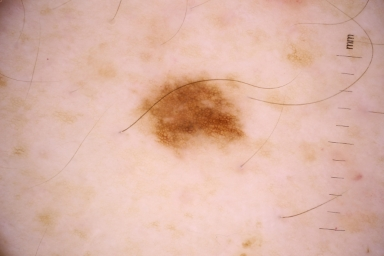melanoma: (146, 79, 245, 151)
